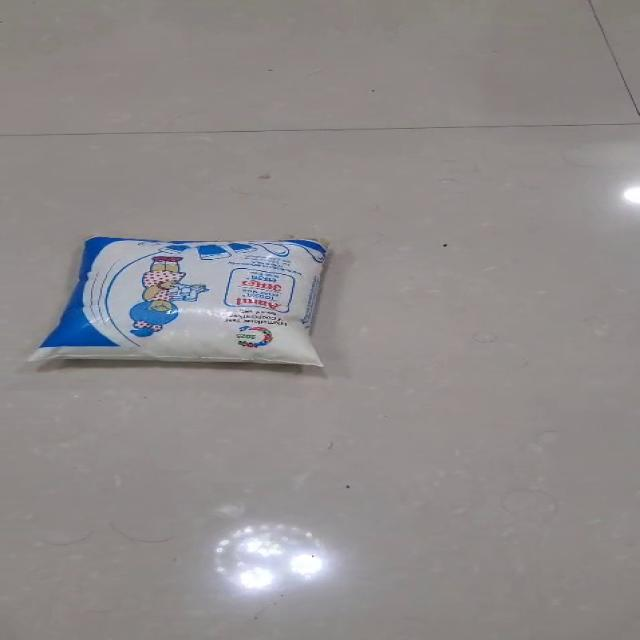plastic: (27, 235, 330, 367)
